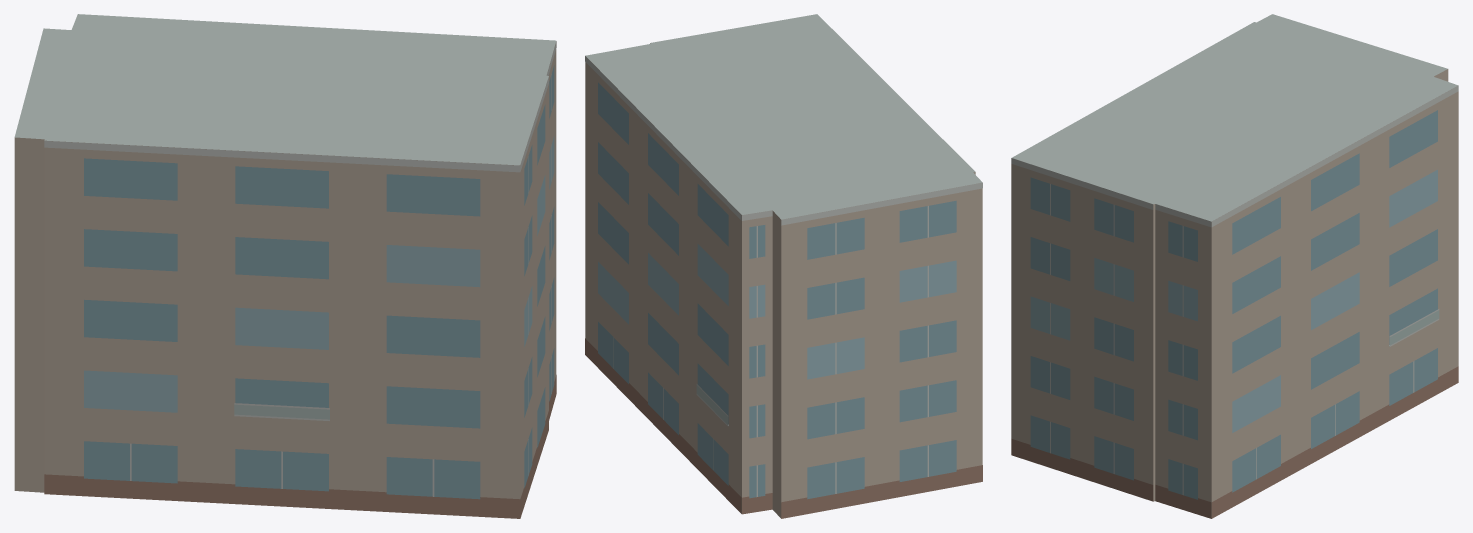
File: survey-upis-32919732.glb
3 renders of one model, left to right at view 1: azimuth 30°, elevation 25°; view 2: azimuth 150°, elevation 25°; view 3: azimuth 270°, elevation 25°, orthographic. The views are drawn at different scales.
Parts seen in each view (by area): view 1: survey-upis-32919732.tmp; view 2: survey-upis-32919732.tmp; view 3: survey-upis-32919732.tmp.
Part boxes in pixels (x1=…): survey-upis-32919732.tmp: x1=14, y1=14, x2=556, y2=518; survey-upis-32919732.tmp: x1=585, y1=14, x2=982, y2=518; survey-upis-32919732.tmp: x1=1011, y1=14, x2=1458, y2=518.
Size of the model in its own units: 18.58 by 12.4 by 16.91.
